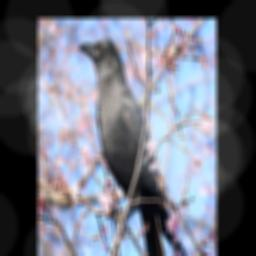Crow: (78, 35, 187, 256)
